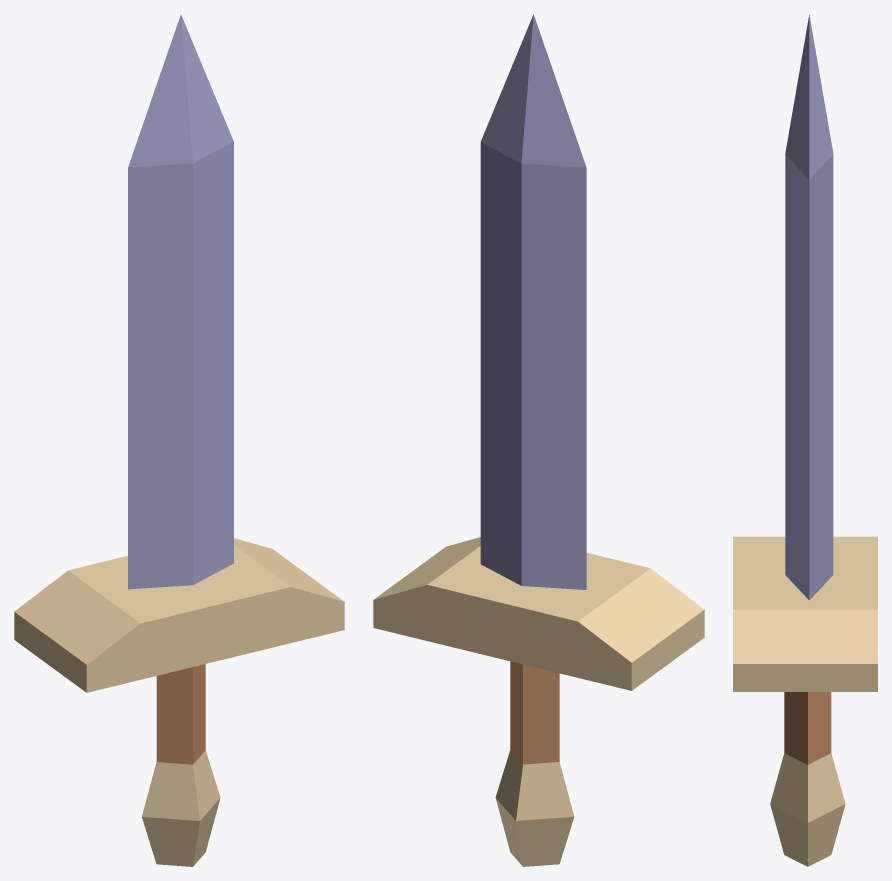
The model's file is Sword.fbx.
The picture shows the model from 3 angles, left to right: view 1: azimuth 30°, elevation 25°; view 2: azimuth 150°, elevation 25°; view 3: azimuth 270°, elevation 25°; orthographic projection.
Visible parts, largest first — view 1: blade, guard_slant, hilt; view 2: blade, guard_slant, hilt; view 3: blade, guard_slant, hilt.
Boxes of the visible parts, box(x1,y1,x2,y2) form: blade: box(128, 14, 233, 589); guard_slant: box(14, 538, 344, 692); hilt: box(142, 664, 220, 866); blade: box(480, 14, 586, 589); guard_slant: box(373, 537, 704, 690); hilt: box(495, 661, 574, 866); blade: box(785, 15, 833, 600); guard_slant: box(733, 536, 877, 691); hilt: box(770, 692, 845, 866).
Bounding box in the file's own units: 4.8 × 15 × 2.34.
